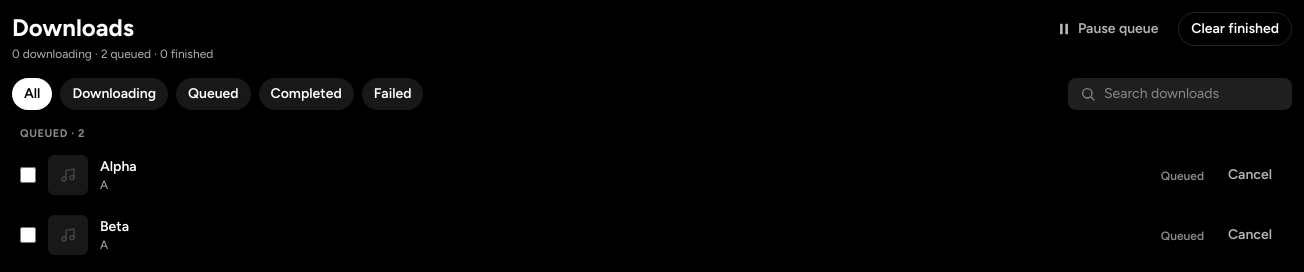
Test: Downloads page › searches by title
This screenshot has width=1304, height=272.
Step 1. Type "alph" into the field with placeholder "Search downloads" → (1192, 94), box left=1104, top=84, right=1280, bottom=104
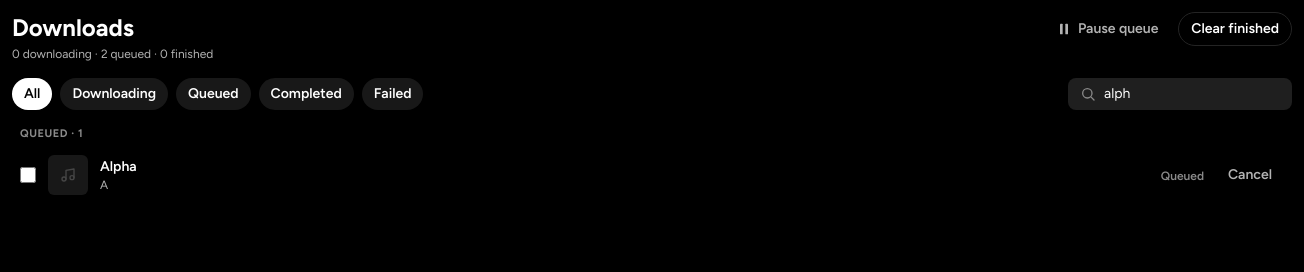
Expected: the text "Alpha" is shown, left=100, top=158, right=137, bottom=174
Now the text "Beta" is gone
